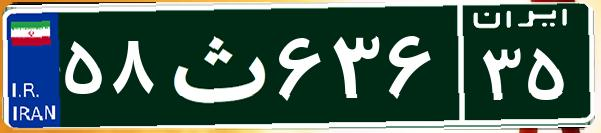3: (330, 28, 385, 110), (475, 38, 525, 113)
5: (57, 26, 110, 107), (525, 38, 570, 115)
6: (385, 28, 445, 110), (273, 28, 330, 110)
8: (110, 28, 158, 105)
ث: (158, 15, 273, 115)
